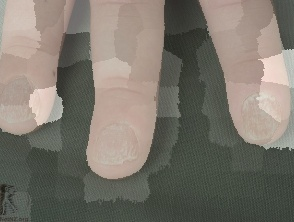Nail_psoriasis: (80, 104, 159, 183), (234, 86, 286, 147), (0, 70, 50, 129)
